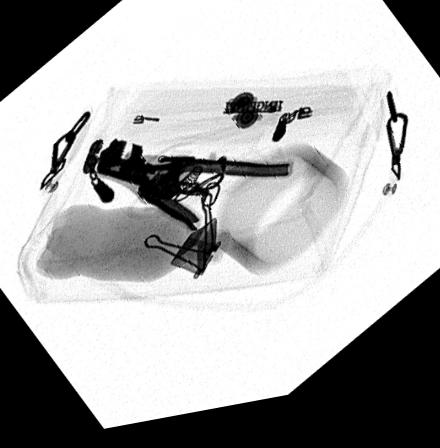Pliers: (79, 140, 295, 242)
